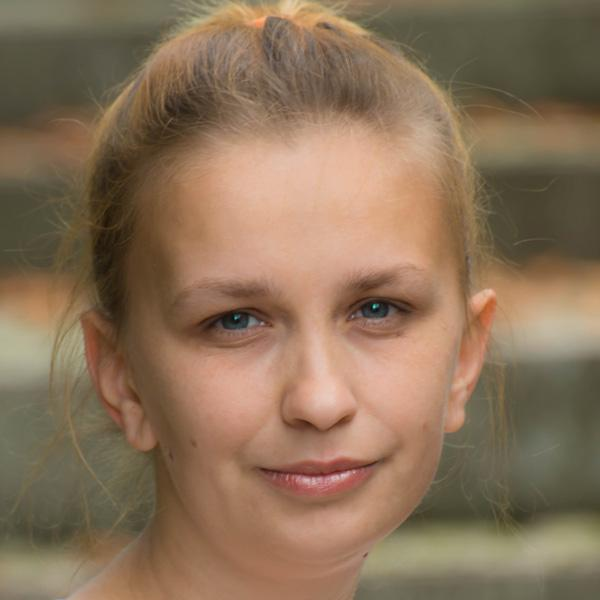Eyes: (188, 298, 280, 353), (336, 287, 426, 339)
